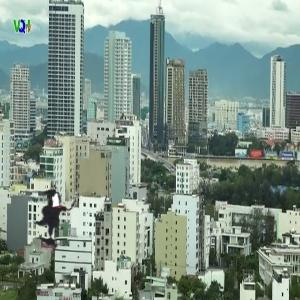drone: (11, 173, 106, 268)
